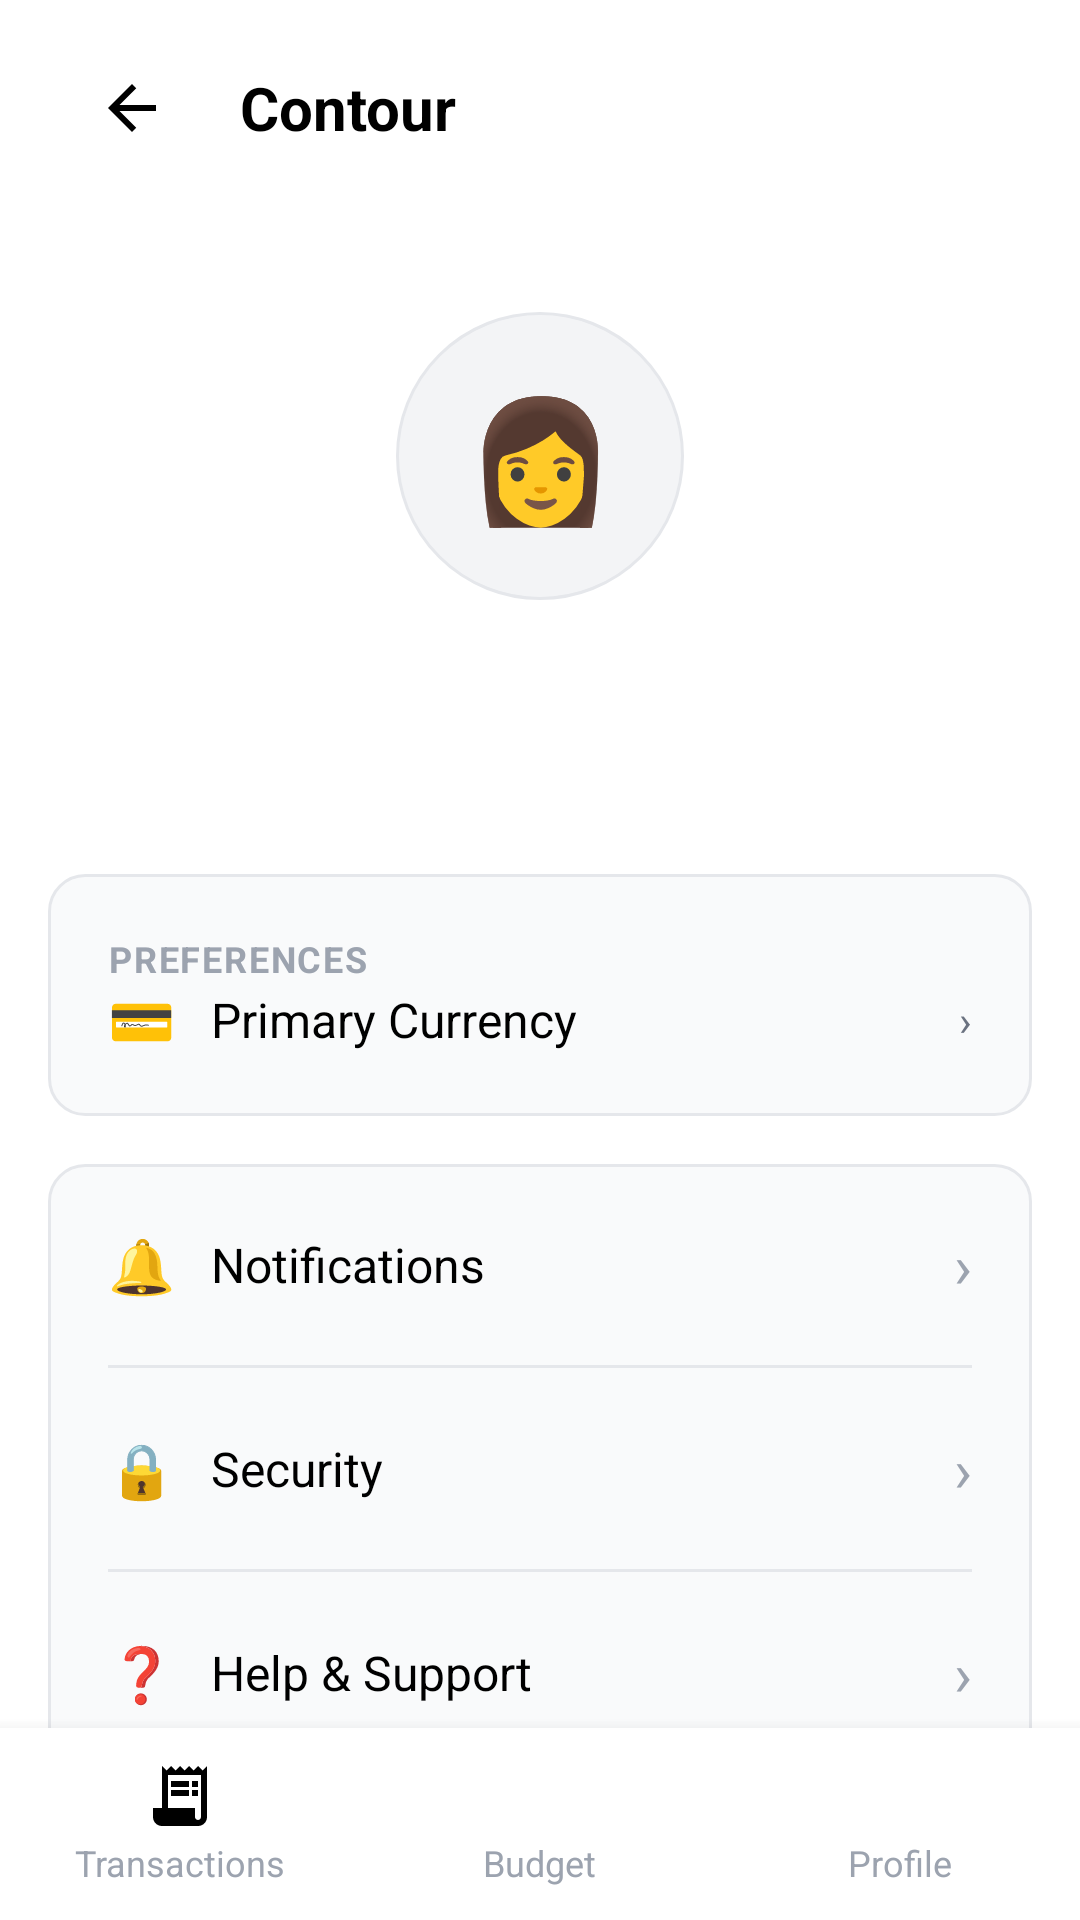

Named icons in this screenshot (1080px x 1920px) and their centers, [x,y]:
Back: [132,108]
